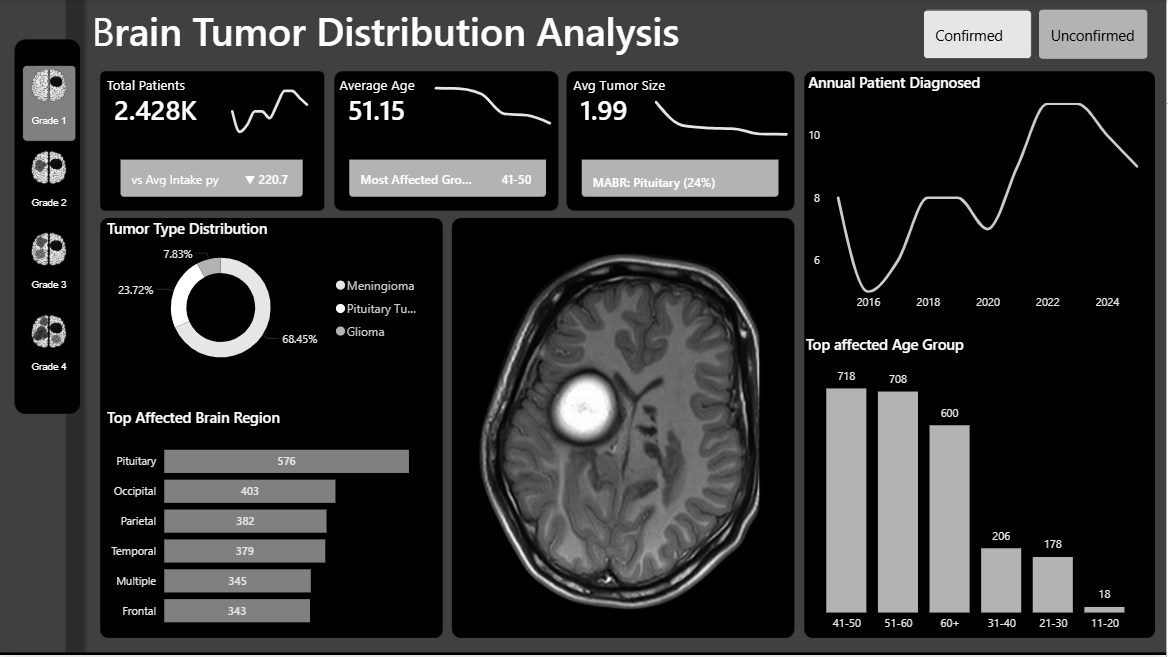

The dashboard page shown, as its layout file describes it:
{"tool":"powerbi","page":{"name":"Page 1","canvas":[1280,720],"ordinal":0},"visuals":[{"type":"cardVisual","title":"Total Patients","fields":{"Data":["Count(Brain Tumor Data.Patient ID)"]},"box":[96,80,160,80],"z":0},{"type":"lineChart","fields":{"Y":["CountNonNull(Brain Tumor Data.Patient ID)"],"Category":["Brain Tumor Data.Date of Diagnosis.Variation.Date Hierarchy.Year"]},"box":[240,80,112,80],"z":1000},{"type":"cardVisual","fields":{"Data":["Count(Brain Tumor Data.Patient ID)"]},"box":[104,85,256,160],"z":2000},{"type":"textbox","box":[112,80,112,32],"z":3000},{"type":"cardVisual","title":"Total Patients","fields":{"Data":["Avg(Brain Tumor Data.Age)"]},"box":[352,80,144,80],"z":4000},{"type":"lineChart","fields":{"Y":["CountNonNull(Brain Tumor Data.Patient ID)"],"Category":["Brain Tumor Data.Age Group"]},"box":[464,80,155,64],"z":5000},{"type":"textbox","box":[368,80,112,32],"z":6000},{"type":"textbox","box":[624,80,112,32],"z":7000},{"type":"cardVisual","title":"Total Patients","fields":{"Data":["Avg(Brain Tumor Data.Tumor Size (cm))"]},"box":[608,80,128,80],"z":8000},{"type":"lineChart","fields":{"Category":["Brain Tumor Data.Affected Brain Region"],"Y":["Sum(Brain Tumor Data.Tumor Size (cm))"]},"box":[704,96,176,64],"z":9000},{"type":"advancedSlicerVisual","fields":{"Values":["Brain Tumor Data.Histology Confirmation"]},"box":[1008,7,256,64],"z":10000},{"type":"ChicletSlicer1448559807354","fields":{"Category":["Tumor Images.Tumor Grade"],"Image":["Tumor Images.Icon URL"]},"box":[16,64,80,400],"z":11000},{"type":"imageDB603108E3FF4EBFB8047F5653368E8C","fields":{"imageUrl":["Tumor Images.Image URL"]},"box":[520,256,320,432],"z":12000},{"type":"lineChart","title":"Annual Patient Diagnosed","fields":{"Y":["CountNonNull(Brain Tumor Data.Patient ID)"],"Category":["Brain Tumor Data.Date of Diagnosis.Variation.Date Hierarchy.Year"]},"box":[882,80,384,272],"z":13000},{"type":"donutChart","title":"Tumor Type Distribution","fields":{"Category":["Brain Tumor Data.Tumor Type"],"Y":["CountNonNull(Brain Tumor Data.Tumor Type)"]},"box":[112,240,368,176],"z":14000},{"type":"clusteredBarChart","title":"Top Affected Brain Region","fields":{"Category":["Brain Tumor Data.Affected Brain Region"],"Y":["CountNonNull(Brain Tumor Data.Patient ID)"]},"box":[112,448,368,256],"z":15000},{"type":"columnChart","title":" Top affected Age Group ","fields":{"Y":["CountNonNull(Brain Tumor Data.Patient ID)"],"Category":["Brain Tumor Data.Age Group"]},"box":[880,368,384,336],"z":16000},{"type":"cardVisual","fields":{"Data":["Count(Brain Tumor Data.Patient ID)"]},"box":[355,85,272,160],"z":17000},{"type":"textbox","box":[96,0,768,80],"z":18000},{"type":"cardVisual","fields":{"Data":["Count(Brain Tumor Data.Patient ID)"]},"box":[610,85,272,160],"z":19000}]}

Visuals, with their boxes in screenshot pixels (x1, y1, x2, y2), scaled from the page's 1280x720 canvas onto the 1168x657 screenshot:
"Total Patients" cardVisual: bbox(88, 73, 234, 146)
lineChart - CountNonNull(Brain Tumor Data.Patient ID) x Brain Tumor Data.Date of Diagnosis.Variation.Date Hierarchy.Year: bbox(219, 73, 321, 146)
cardVisual - Count(Brain Tumor Data.Patient ID): bbox(95, 78, 328, 224)
textbox: bbox(102, 73, 204, 102)
"Total Patients" cardVisual: bbox(321, 73, 453, 146)
lineChart - CountNonNull(Brain Tumor Data.Patient ID) x Brain Tumor Data.Age Group: bbox(423, 73, 565, 131)
textbox: bbox(336, 73, 438, 102)
textbox: bbox(569, 73, 672, 102)
"Total Patients" cardVisual: bbox(555, 73, 672, 146)
lineChart - Brain Tumor Data.Affected Brain Region x Sum(Brain Tumor Data.Tumor Size (cm)): bbox(642, 88, 803, 146)
advancedSlicerVisual - Brain Tumor Data.Histology Confirmation: bbox(920, 6, 1153, 65)
ChicletSlicer1448559807354 - Tumor Images.Tumor Grade x Tumor Images.Icon URL: bbox(15, 58, 88, 423)
imageDB603108E3FF4EBFB8047F5653368E8C - Tumor Images.Image URL: bbox(474, 234, 766, 628)
"Annual Patient Diagnosed" lineChart: bbox(805, 73, 1155, 321)
"Tumor Type Distribution" donutChart: bbox(102, 219, 438, 380)
"Top Affected Brain Region" clusteredBarChart: bbox(102, 409, 438, 642)
" Top affected Age Group " columnChart: bbox(803, 336, 1153, 642)
cardVisual - Count(Brain Tumor Data.Patient ID): bbox(324, 78, 572, 224)
textbox: bbox(88, 0, 788, 73)
cardVisual - Count(Brain Tumor Data.Patient ID): bbox(557, 78, 805, 224)
